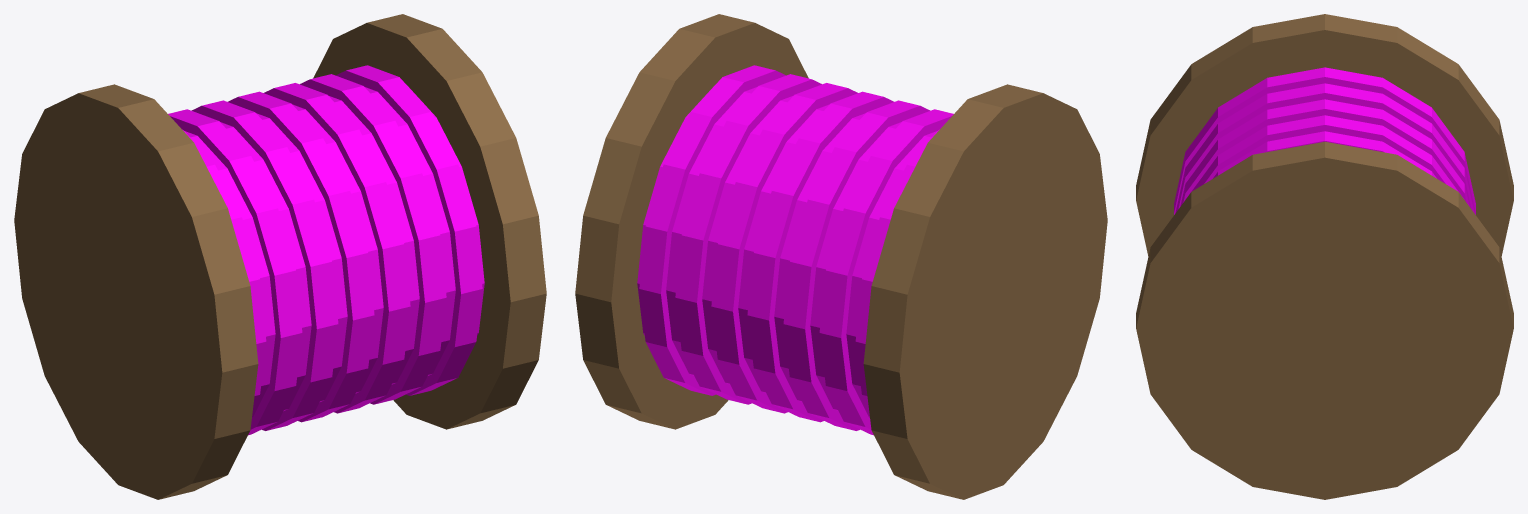
Rendered from objet_bobine.glb.
The picture shows the model from 3 angles, left to right: view 1: azimuth 30°, elevation 25°; view 2: azimuth 150°, elevation 25°; view 3: azimuth 270°, elevation 25°; orthographic projection. The views are drawn at different scales.
Parts seen in each view (by area): view 1: bobine_bois.002, bobine_teinte.002; view 2: bobine_bois.002, bobine_teinte.002; view 3: bobine_bois.002, bobine_teinte.002.
Boxes of the visible parts, x1,y1,x2,y2 form: bobine_bois.002: [14, 14, 546, 499]; bobine_teinte.002: [168, 65, 484, 435]; bobine_bois.002: [575, 14, 1107, 499]; bobine_teinte.002: [637, 65, 953, 435]; bobine_bois.002: [1136, 14, 1513, 499]; bobine_teinte.002: [1174, 67, 1475, 214].
Bounding box in the file's own units: 0.18 × 0.2 × 0.2.
